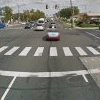crosswalk: (0, 46, 98, 56)
